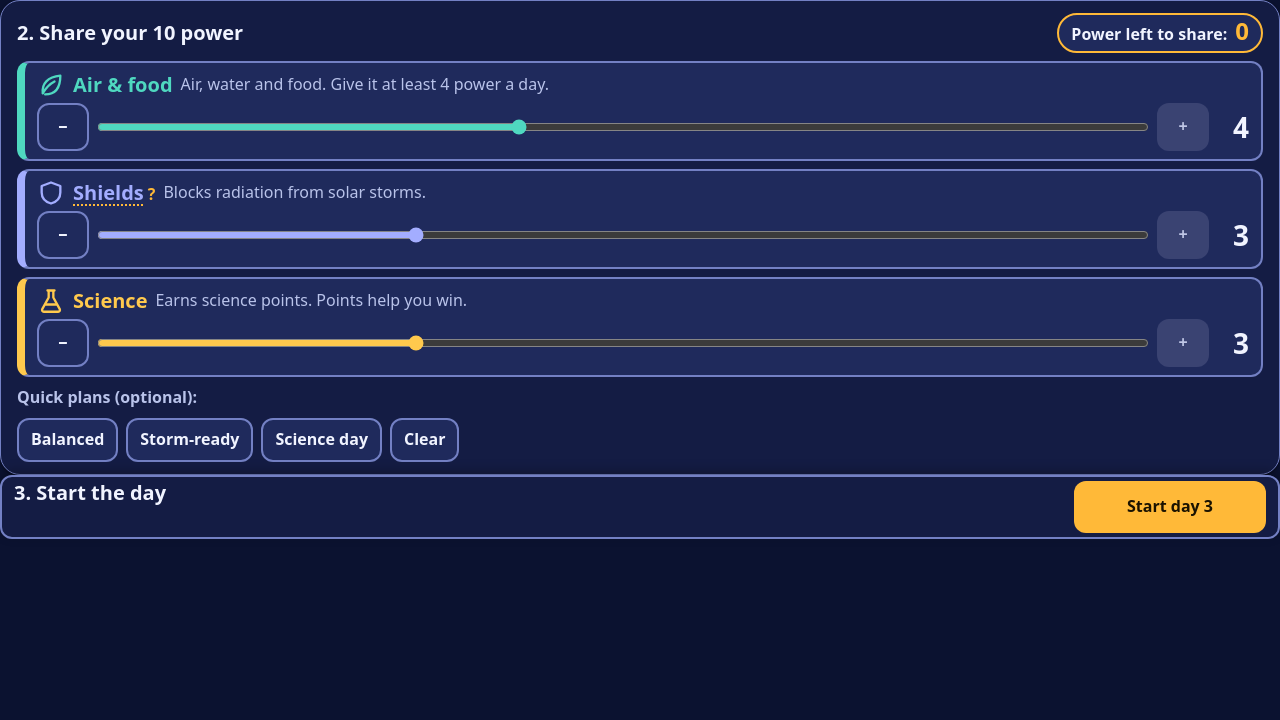
Test: PowerAllocator › Clear empties everything, reports it and disables Start
Click the button "Clear": (425, 440) [390, 418, 460, 462]
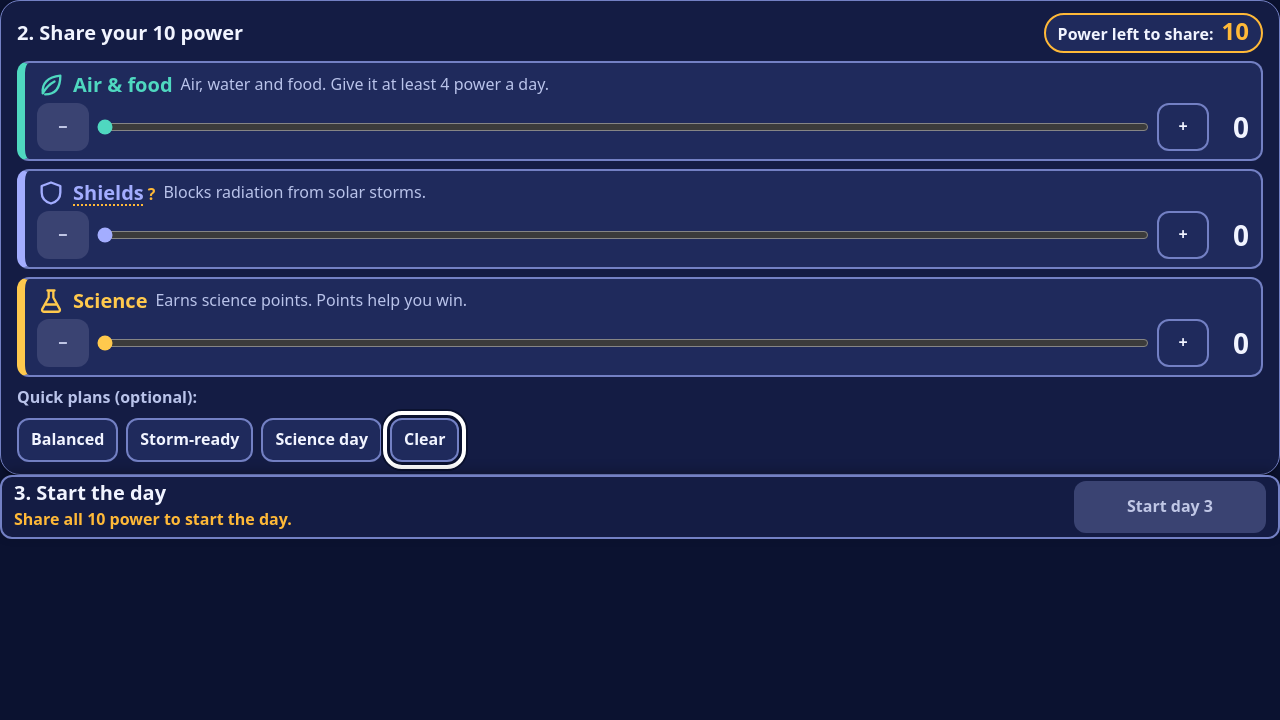
Now the text "Power left to share: 10" is shown, box [1044, 13, 1263, 53]
Now the button "Start day 3" is disabled, box [1074, 481, 1266, 533]
